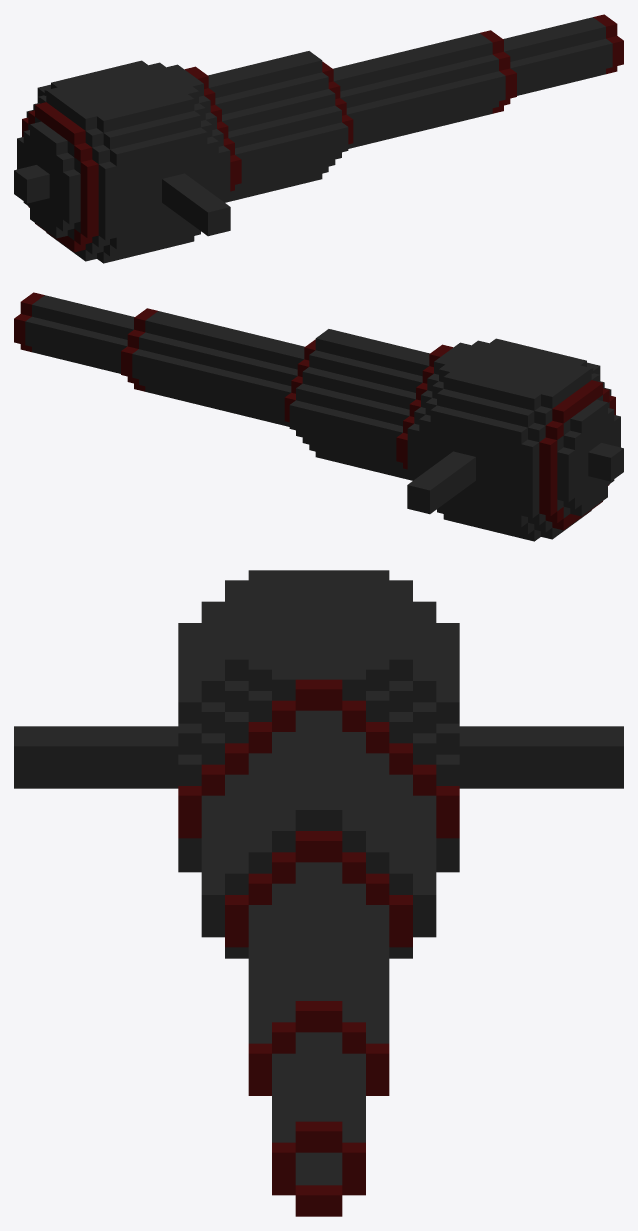
File: projTowerCannon.fbx
The picture shows the model from 3 angles, top to bottom: view 1: azimuth 30°, elevation 25°; view 2: azimuth 150°, elevation 25°; view 3: azimuth 270°, elevation 25°; orthographic projection. The views are drawn at different scales.
Visible parts, largest first — view 1: projTower_2; view 2: projTower_2; view 3: projTower_2.
Part boxes in pixels (x1,y1,x2,y2): projTower_2: (14,14,623,263); projTower_2: (14,292,623,541); projTower_2: (14,570,623,1216).
Bounding box in the file's own units: 52 × 12 × 26.
1 material, 1 textured.
